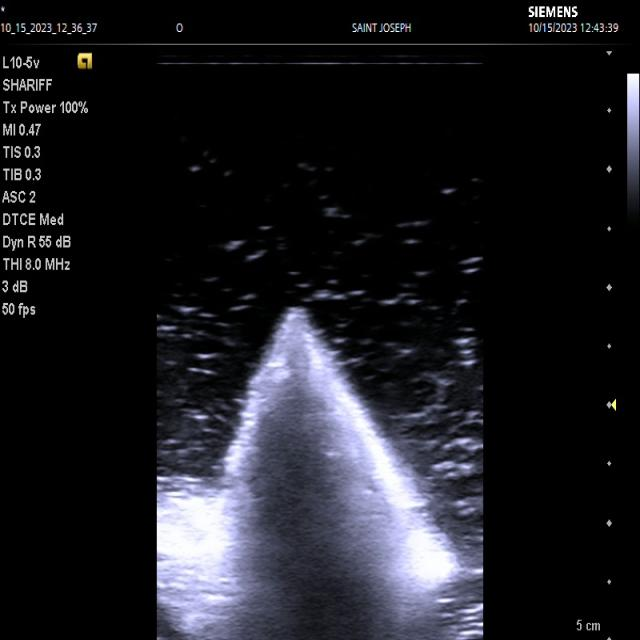tissue: (158, 307, 482, 640)
